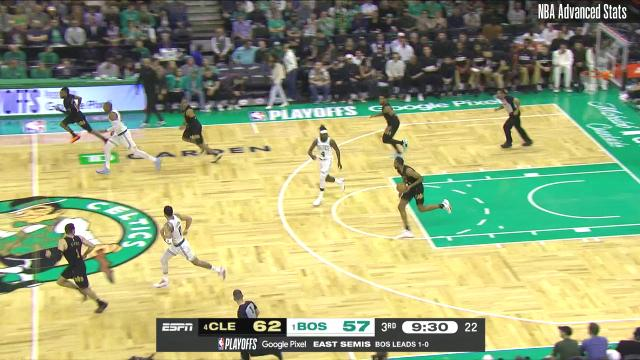3_sx: (554, 108, 574, 120)
b_sx: (546, 99, 558, 109)
free_adx: (426, 243, 444, 255)
free_asx: (382, 170, 398, 184)
free_bsx: (612, 156, 622, 168)
half_sx: (28, 128, 42, 142)
mid_sx: (244, 115, 260, 129)
referee: (230, 288, 284, 360), (493, 88, 535, 148)
team: (42, 222, 108, 312), (390, 158, 450, 241), (54, 86, 110, 146), (176, 98, 224, 162), (371, 97, 409, 160)
team1: (153, 206, 227, 288), (97, 101, 161, 177), (306, 124, 346, 206)
timer: (408, 322, 452, 336)
